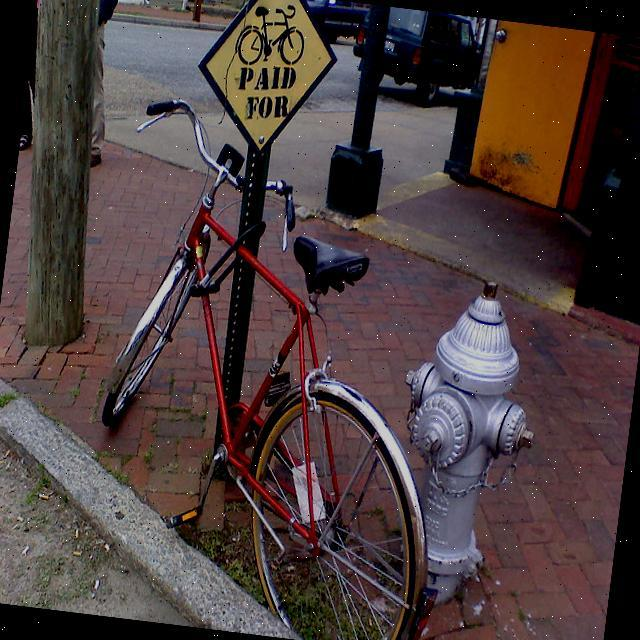fire_hydrant: (377, 273, 551, 611)
